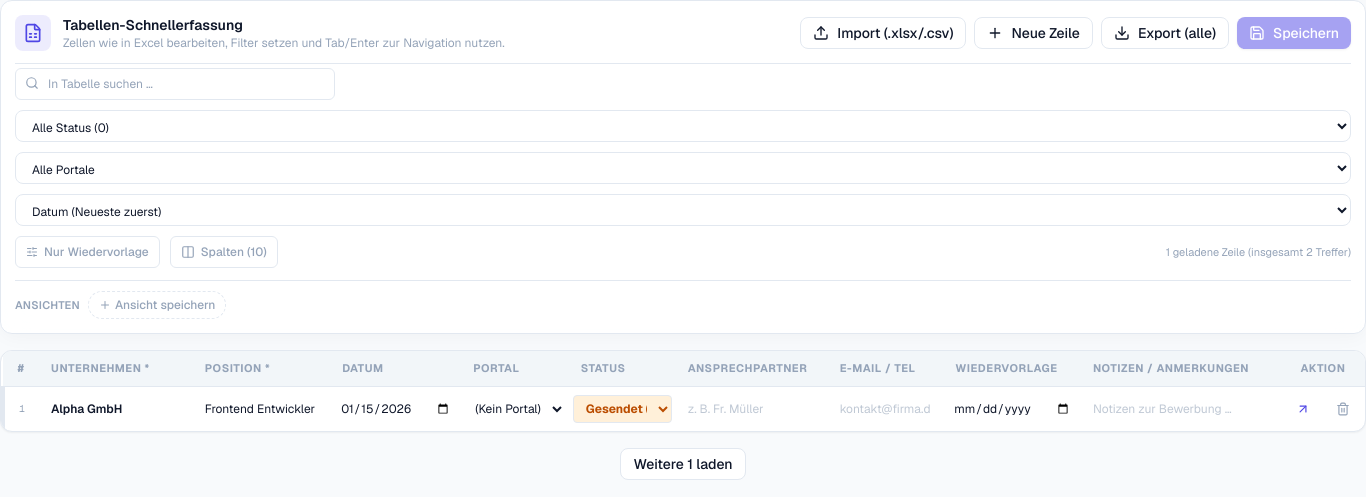
Test case: ExcelGridTable › filtert serverseitig über alle Bewerbungen, nicht nur die aktuell geladene Seite
Expected: the 1st field showing "Alpha GmbH" is shown, [43,397,189,421]
Select "Vorstellungsgespräch (0)" in the dropdown named "nach status filtern" at (683, 126), box [15,110,1351,142]
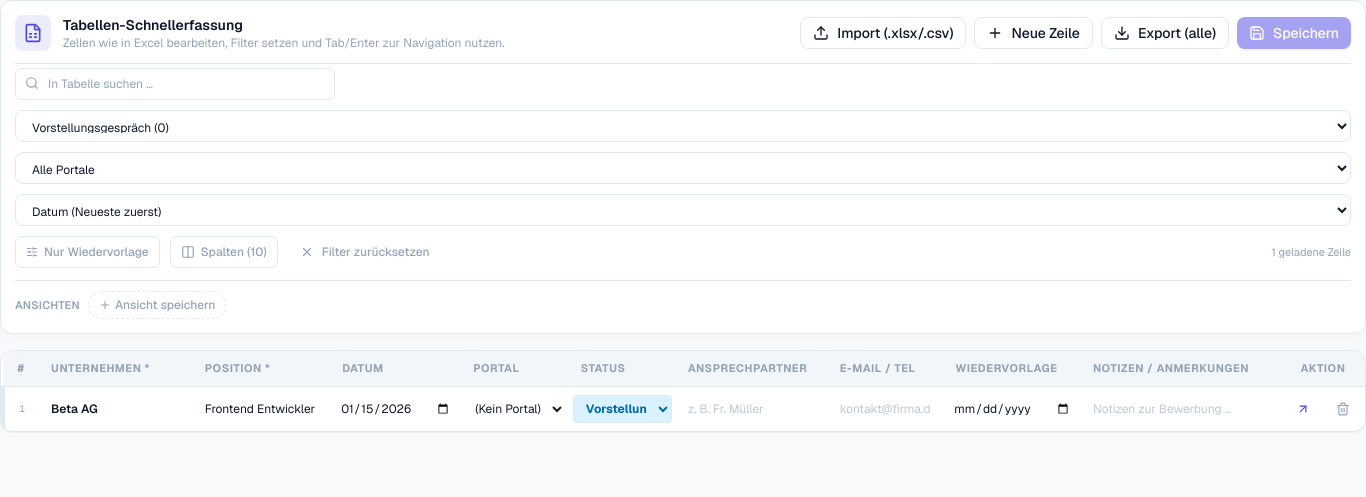
Expected: the field showing "Alpha GmbH" is not shown
Expected: the 1st field showing "Beta AG" is shown, [43,397,189,421]
